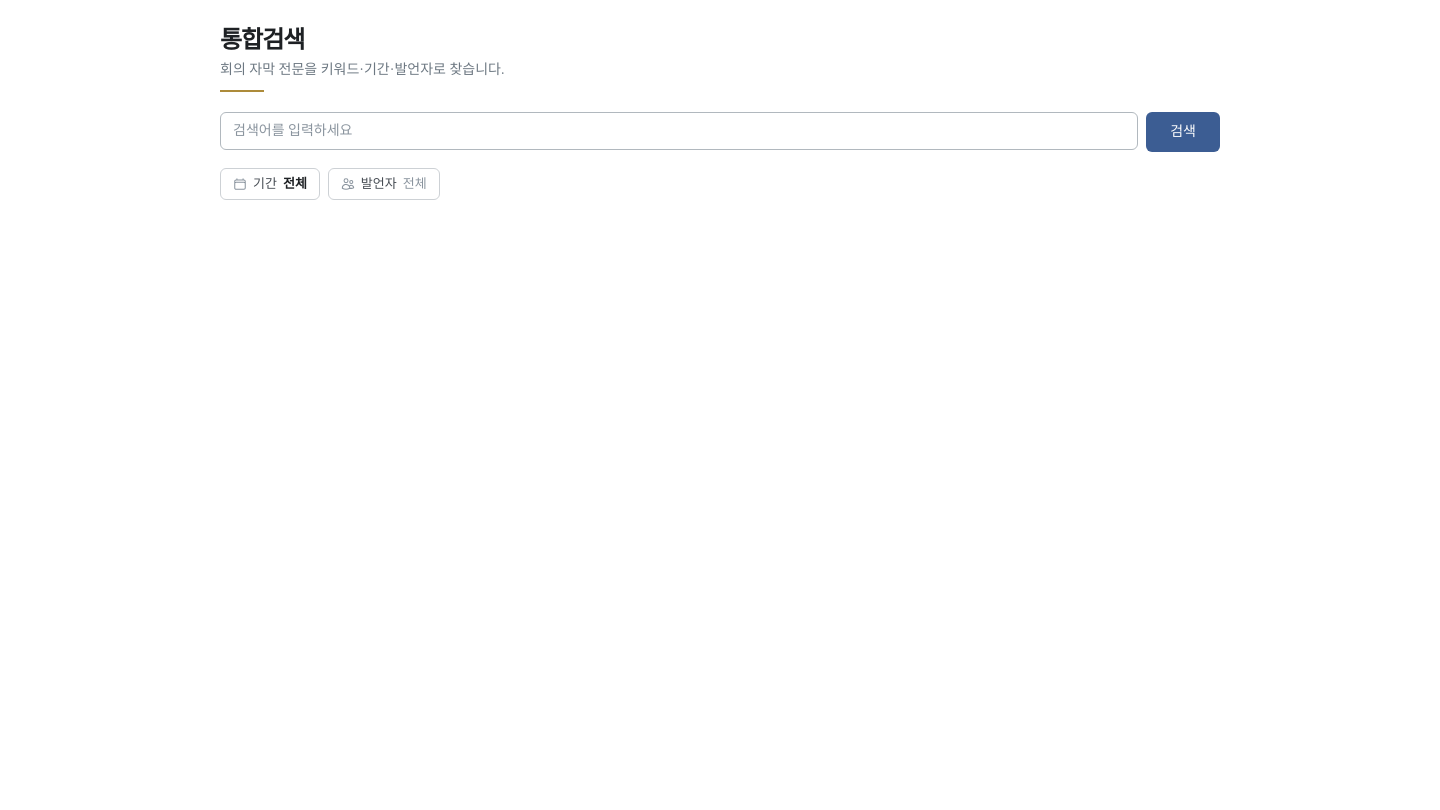
Scenario: 영상이 없는 회의 › 안내만 내고 video 태그를 만들지 않는다
Type "정보화" into the field with placeholder "검색어를 입력하세요".
click(679, 131); type("정보화")  # box [220,112,1138,150]
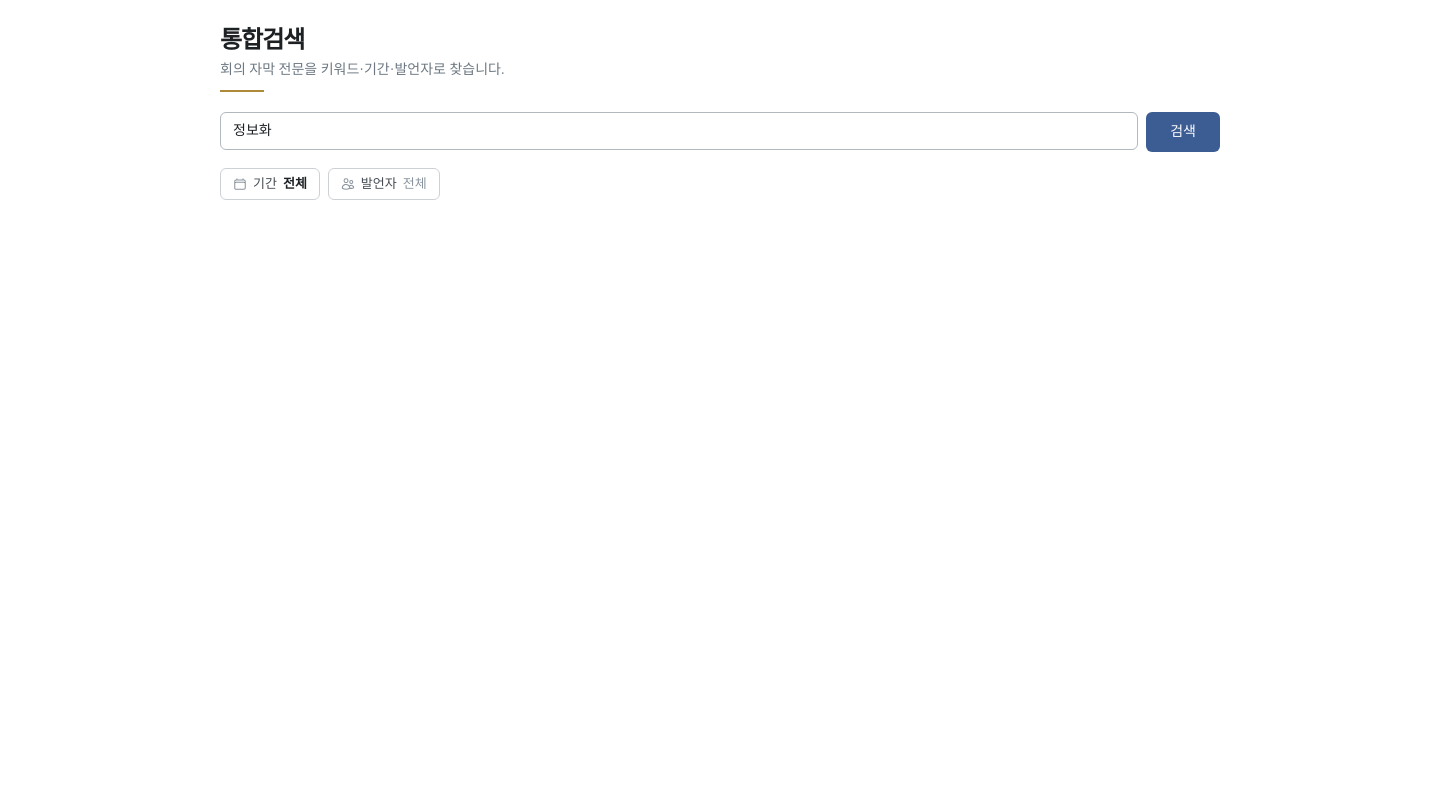
Click the button "검색".
click(1183, 132)  # box [1146,112,1220,152]
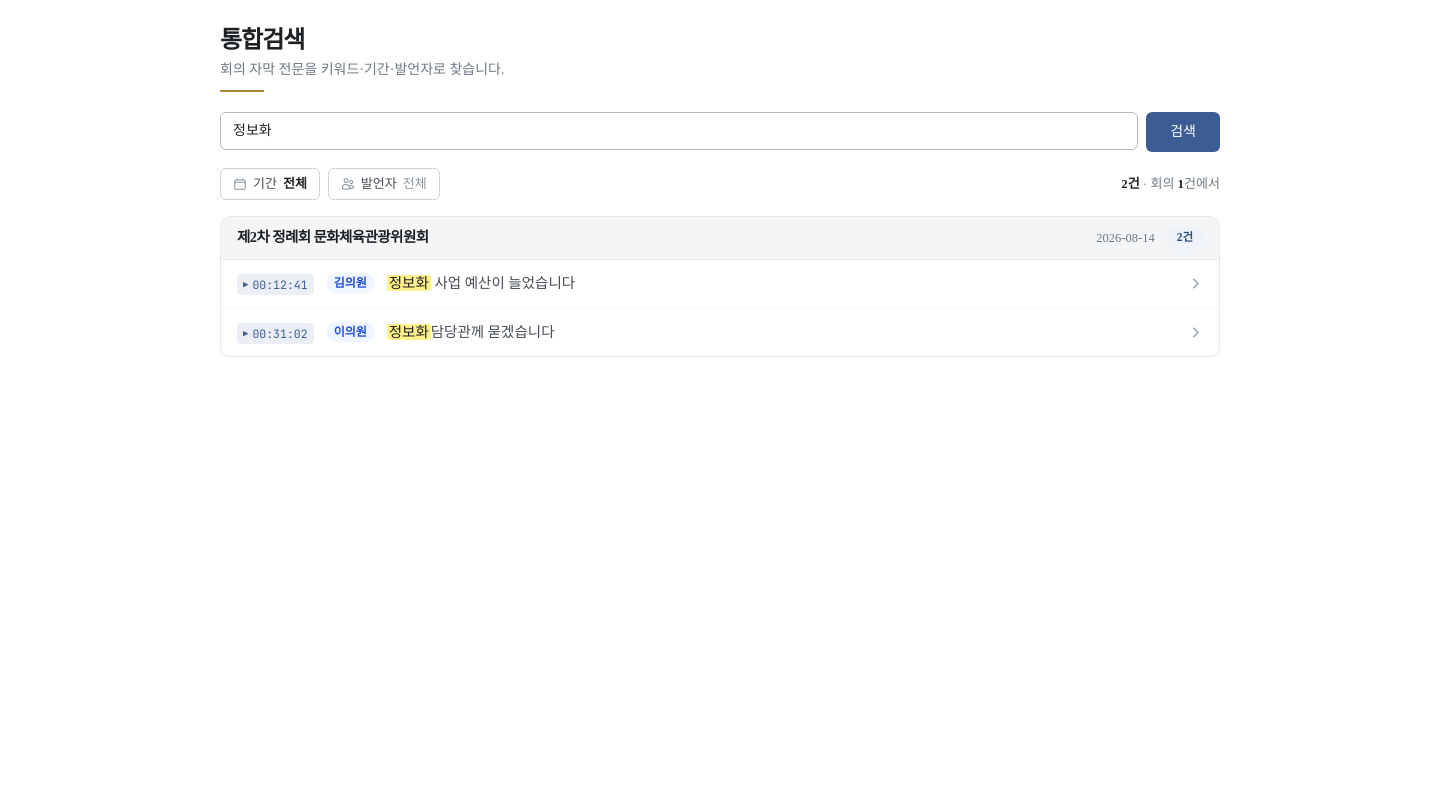
Check: the button with test id "search-hit" is shown
Click the button with test id "search-hit".
click(275, 285)  # box [221,260,1219,309]
(page scrolled)
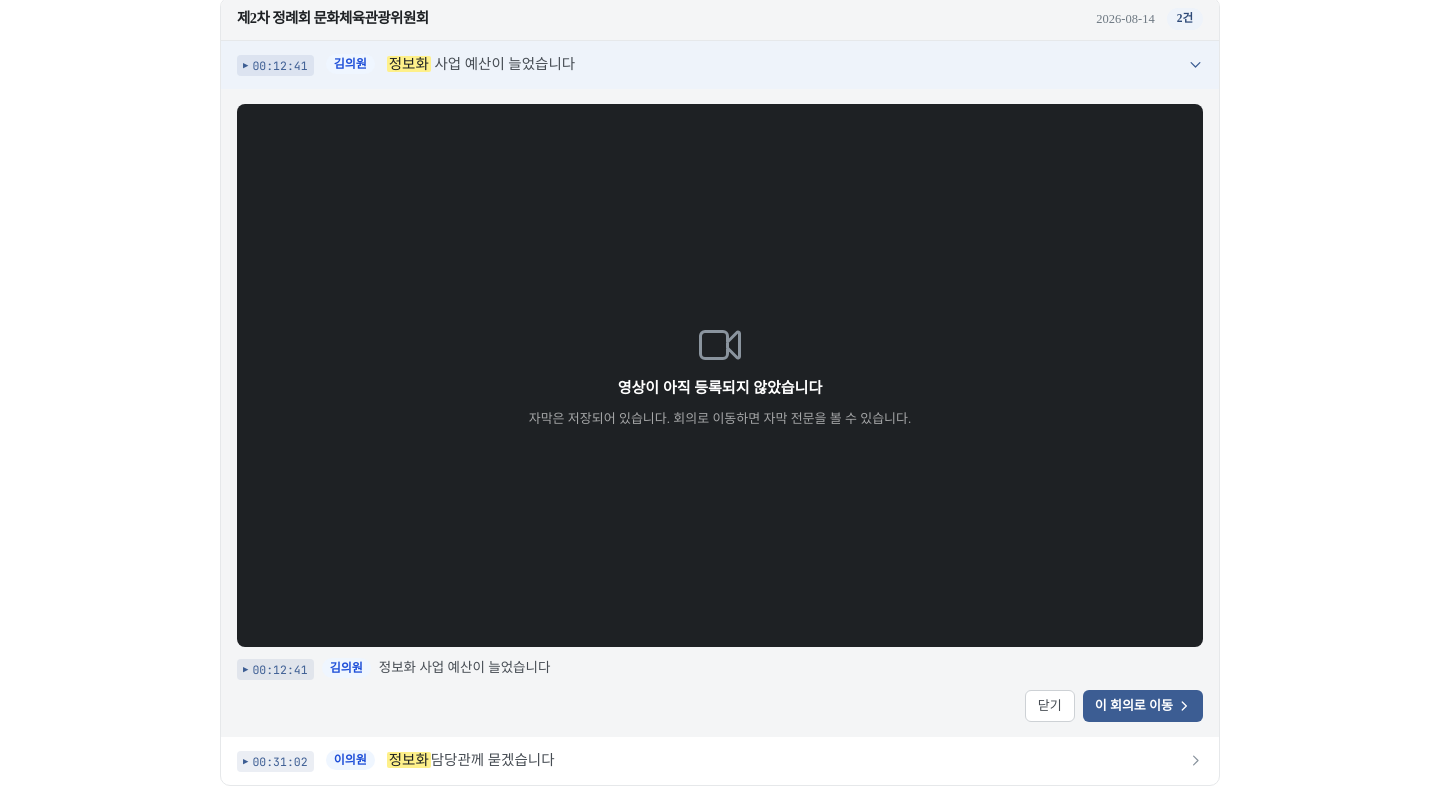
Check: the element with test id "search-preview-pending" is shown, box [237,104,1203,647]
Check: the button with test id "search-preview-open" is shown, box [1083,690,1203,722]
